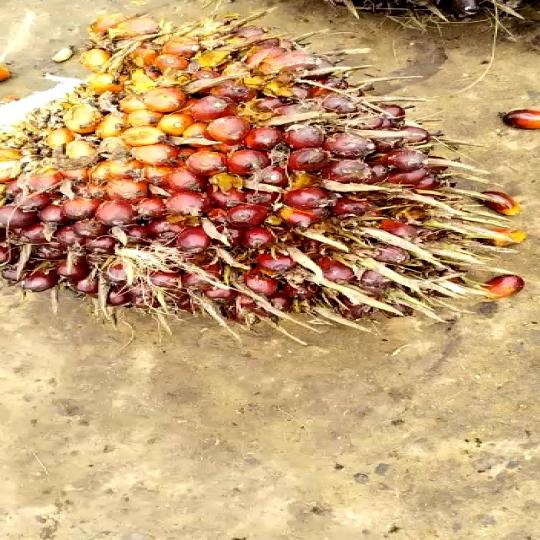masak: (0, 15, 483, 340)
